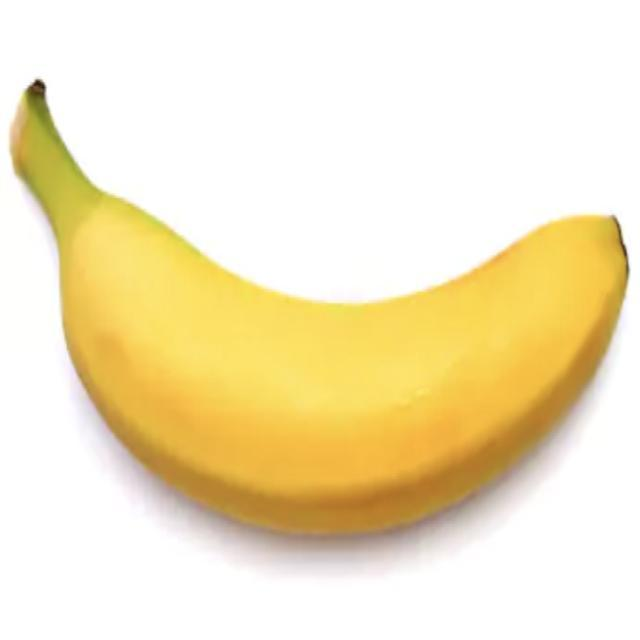Banana: (8, 76, 630, 536)
